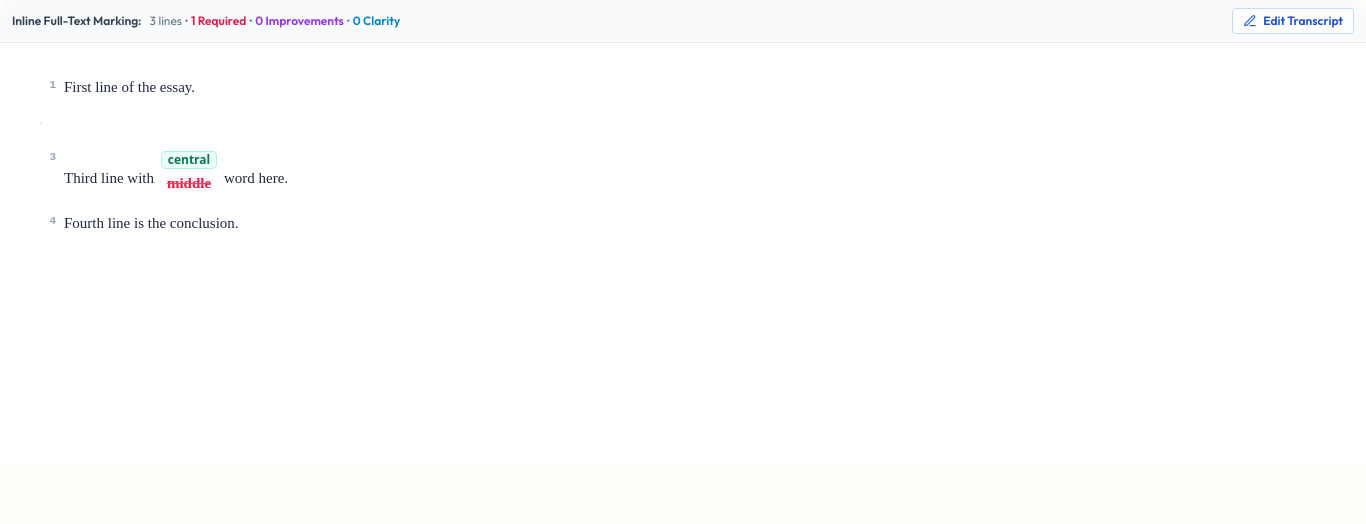
Test case: Whole-Transcript In-Place OCR Editing - 10 Focused Verifications › 1. Left-click opens one full-transcript inline textarea with existing text and newlines
This screenshot has width=1366, height=524.
Expected: the text "Third" is shown, [62,166,99,191]
Expected: the text "Fourth" is shown, [62,211,106,235]
# Click ordinary text word
Click the text "First". click: (78, 87)
box: [62,75,94,99]
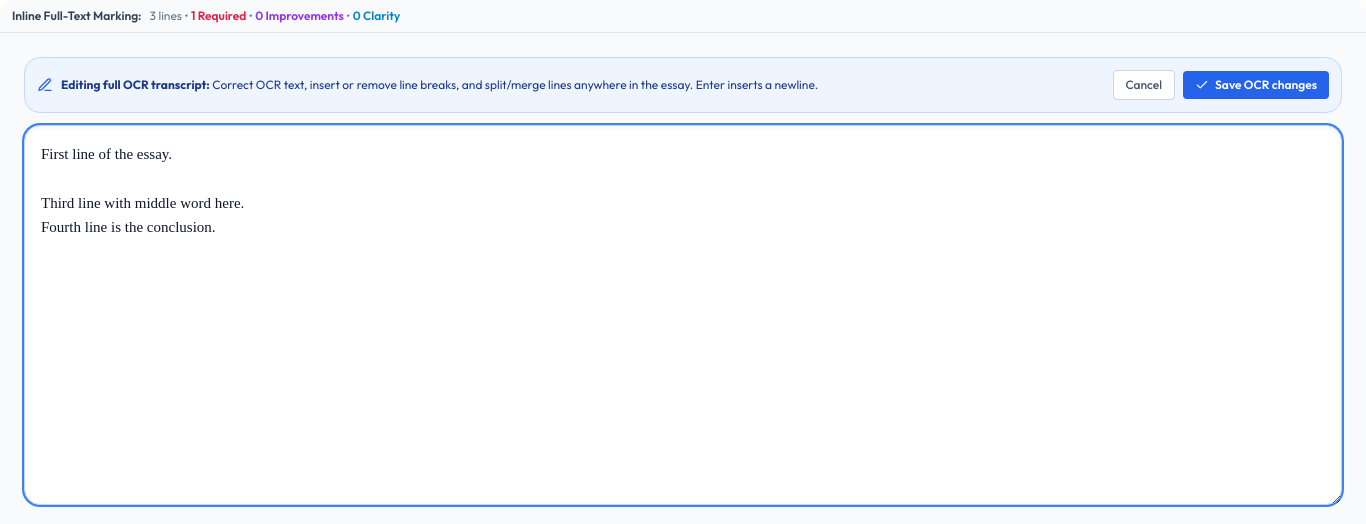
Result: the text box named "Full OCR transcript editor" is shown
Result: the button "Save OCR changes" is shown at [1183,71,1329,99]
Result: the button "Cancel" is shown at [1112,70,1175,100]
